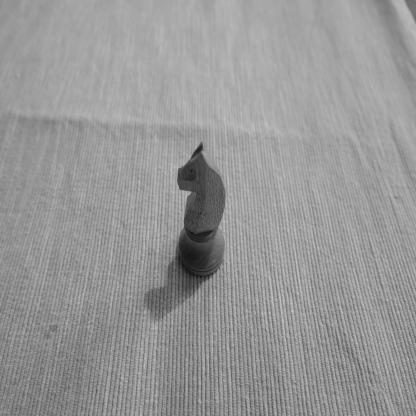white-knight: (176, 138, 227, 279)
